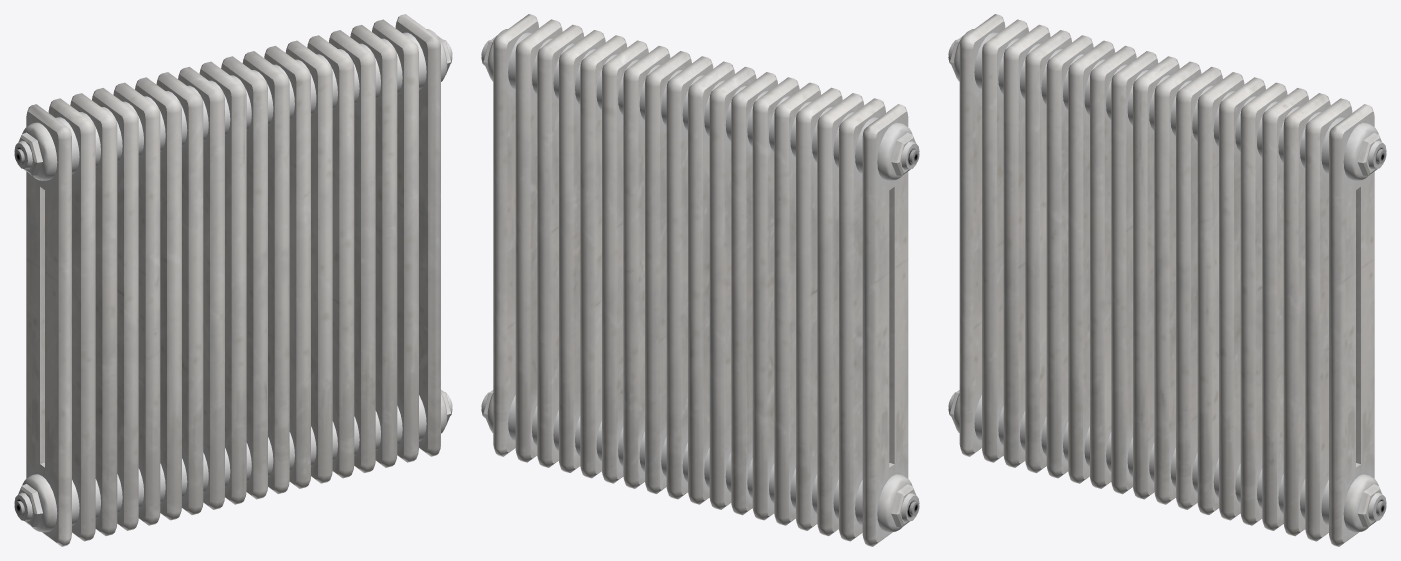
File: SM_Radiator.fbx
The picture shows the model from 3 angles, left to right: view 1: azimuth 30°, elevation 25°; view 2: azimuth 150°, elevation 25°; view 3: azimuth 330°, elevation 25°; orthographic projection.
Visible parts, largest first — view 1: SM_Radiator_LOD0; view 2: SM_Radiator_LOD0; view 3: SM_Radiator_LOD0.
Part boxes in pixels (x1,y1,x2,y2): SM_Radiator_LOD0: (14,14,452,546); SM_Radiator_LOD0: (481,14,919,546); SM_Radiator_LOD0: (948,14,1386,546).
Size of the model in its own units: 82.15 by 12.26 by 76.45.
